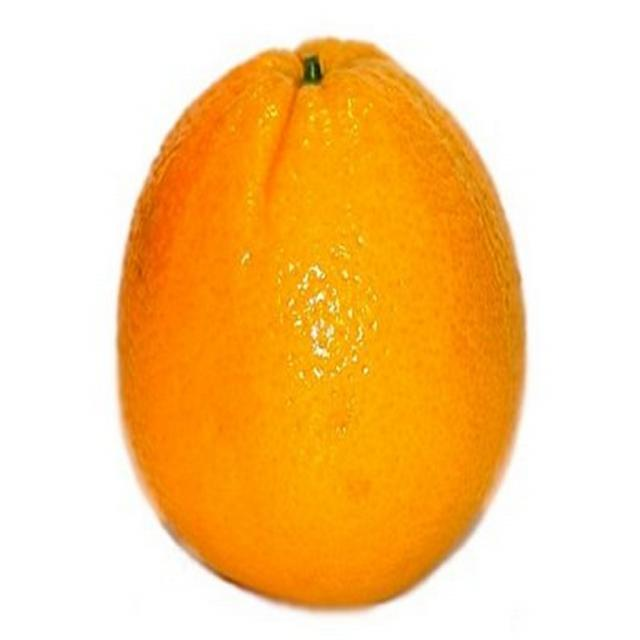orange: (113, 30, 531, 622)
